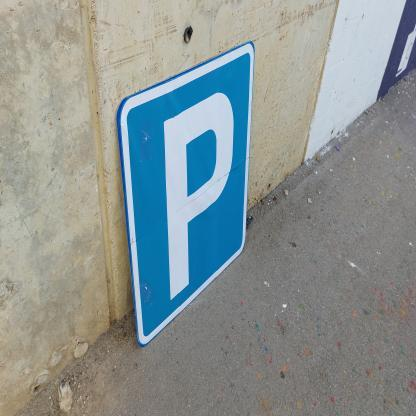parking: (114, 37, 257, 353)
